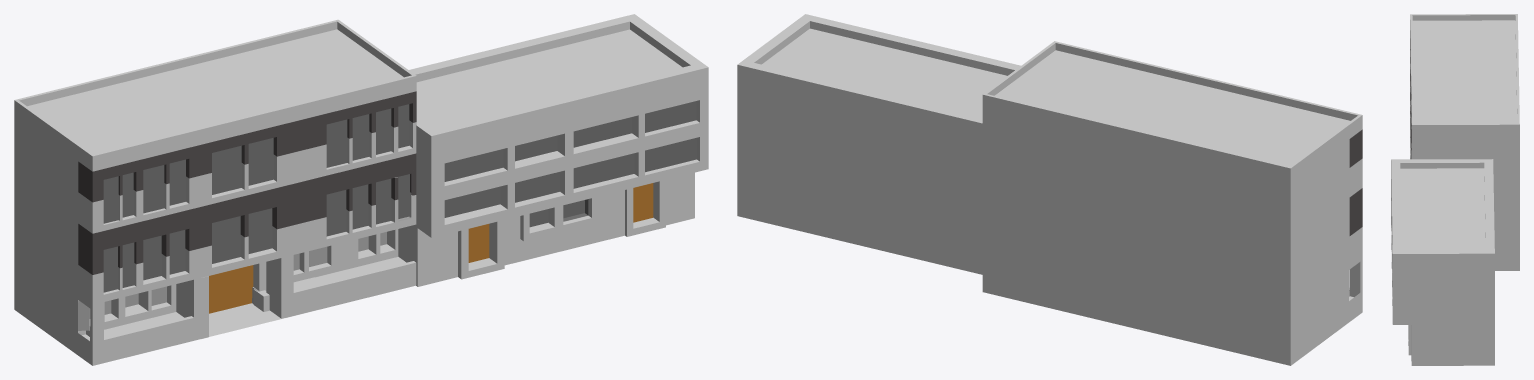
Rendered from building14.glb.
The picture shows the model from 3 angles, left to right: view 1: azimuth 30°, elevation 25°; view 2: azimuth 150°, elevation 25°; view 3: azimuth 270°, elevation 25°; orthographic projection. The views are drawn at different scales.
Parts seen in each view (by area): view 1: Cube; view 2: Cube; view 3: Cube.
Boxes of the visible parts, left/top/right/bottom form: Cube: left=14, top=14, right=708, bottom=365; Cube: left=737, top=14, right=1362, bottom=365; Cube: left=1391, top=14, right=1519, bottom=365.
Size of the model in its own units: 192 by 63.62 by 50.67.
